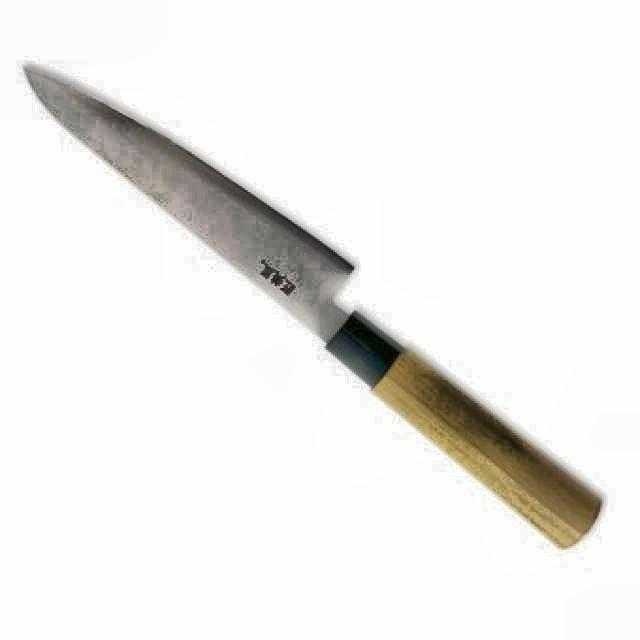knife: (19, 61, 607, 554)
